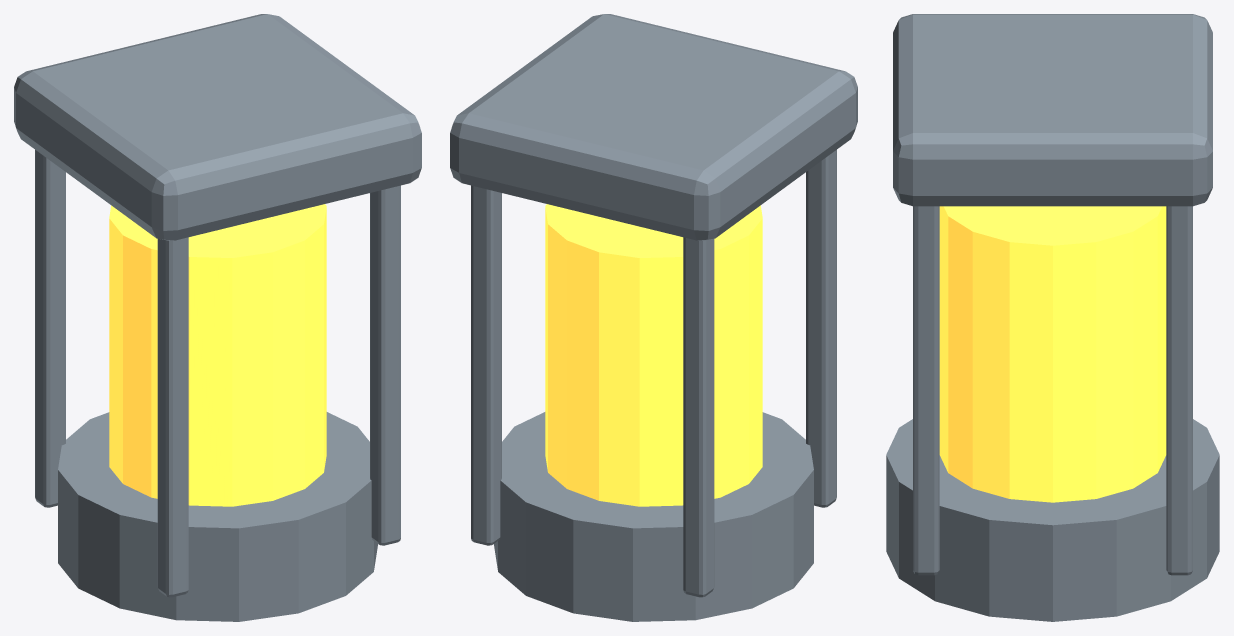
The model's file is Lantern.glb.
3 views of the same model, side by side, from view 1: azimuth 30°, elevation 25°; view 2: azimuth 150°, elevation 25°; view 3: azimuth 270°, elevation 25° (orthographic). The views are drawn at different scales.
Parts seen in each view (by area): view 1: Lantern Top, Lantern Glow, Lantern Base, Lantern Frame, Lantern Frame.002, Lantern Frame.001; view 2: Lantern Top, Lantern Glow, Lantern Base, Lantern Frame.001, Lantern Frame.003, Lantern Frame; view 3: Lantern Glow, Lantern Top, Lantern Base, Lantern Frame.002, Lantern Frame.003.
Boxes of the visible parts, x1,y1,x2,y2 form: Lantern Top: (14,14,421,240); Lantern Glow: (109,204,326,506); Lantern Base: (58,412,377,621); Lantern Frame: (157,237,188,597); Lantern Frame.002: (370,185,400,545); Lantern Frame.001: (35,150,65,507); Lantern Top: (450,14,857,240); Lantern Glow: (545,204,762,506); Lantern Base: (494,412,813,621); Lantern Frame.001: (683,237,714,597); Lantern Frame.003: (471,185,501,545); Lantern Frame: (806,150,836,507); Lantern Glow: (939,206,1166,502); Lantern Top: (893,14,1212,206); Lantern Base: (886,419,1219,621); Lantern Frame.002: (913,206,939,575); Lantern Frame.003: (1166,206,1192,575).
Bounding box in the file's own units: 0.5 × 0.79 × 0.5.
